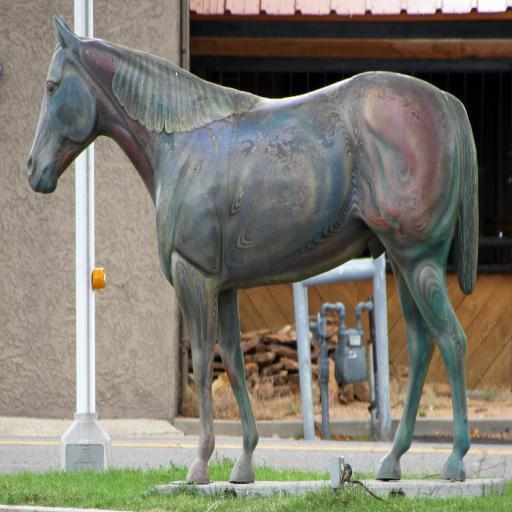horse: (26, 14, 478, 488)
